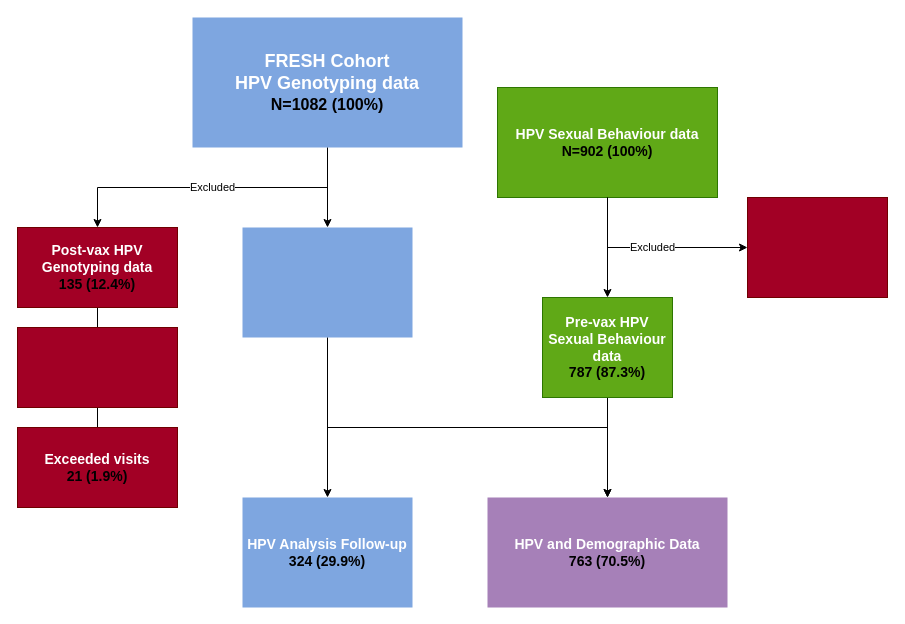
Some shapes in this 905 by 624 pixel diagram are drawn without their labels. The shapes that lost their labels are listed below. From the top down, each one's centre as x and y in pixels, then its label:
the point at 817,247: Post-vax HPV Sexual Behaviour data 115 (12.7%)
the point at 327,282: Baseline HPV Analysis 802 (74.1%)
the point at 97,367: Invalid tests 124 (11.4%)
